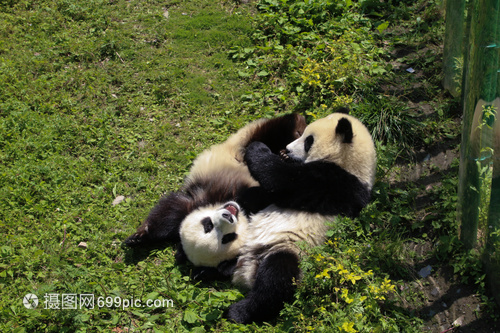panda: (234, 103, 386, 317), (128, 99, 305, 278)
